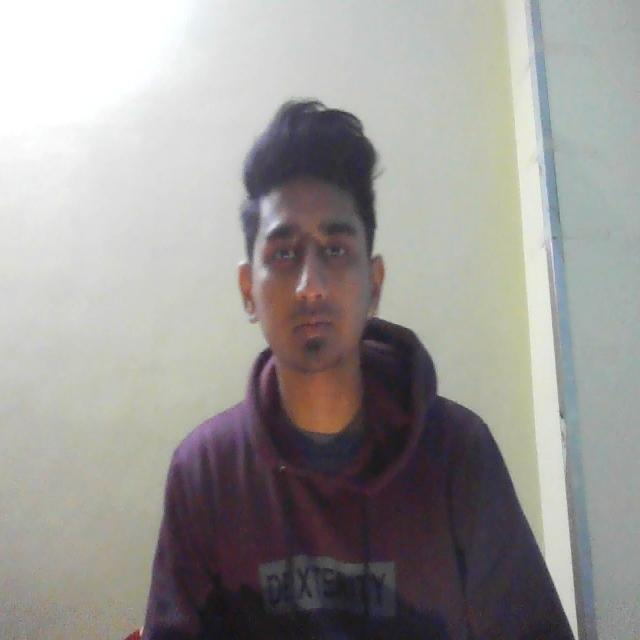real: (242, 116, 394, 403)
